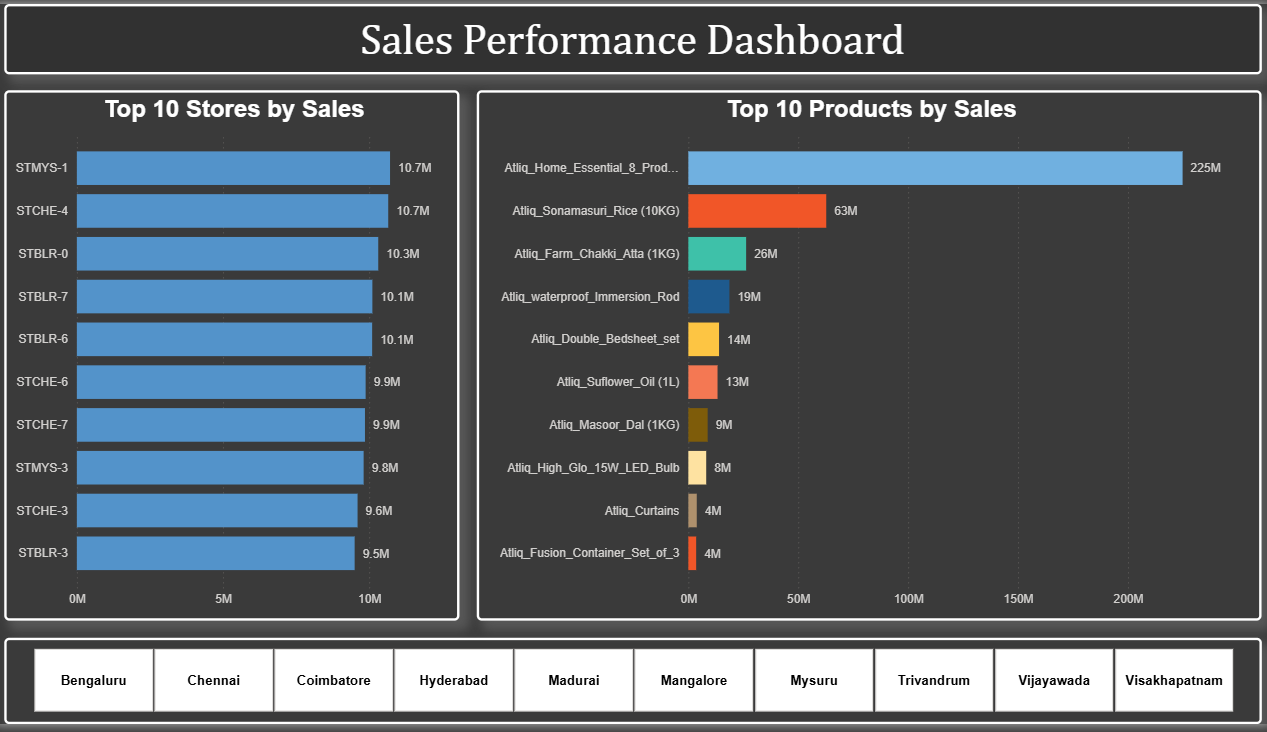

What the dashboard file says about the page in this screenshot:
{"tool":"powerbi","page":{"name":"Page 2","canvas":[1280,720],"ordinal":1},"visuals":[{"type":"textbox","box":[11.2,0,1257.5,70],"z":0},{"type":"barChart","title":"Top 10 Stores by Sales","fields":{"Category":["dim_stores.store_id"],"Y":["fact_events.TotalSales"]},"box":[11.2,86.2,455,530],"z":1000},{"type":"barChart","title":"Top 10 Products by Sales","fields":{"Category":["dim_products.product_name"],"Y":["Sum(fact_events.Total Sales)"]},"box":[483.8,86.2,785,530],"z":2000},{"type":"slicer","fields":{"Values":["dim_stores.city"]},"box":[11.2,633.8,1257.5,86.2],"z":3000}]}

Visuals, with their boxes in screenshot pixels (x1, y1, x2, y2), scaled from the page's 1280x720 canvas onto the 1267x732 screenshot:
textbox: {"x1": 11, "y1": 0, "x2": 1256, "y2": 71}
"Top 10 Stores by Sales" barChart: {"x1": 11, "y1": 88, "x2": 461, "y2": 626}
"Top 10 Products by Sales" barChart: {"x1": 479, "y1": 88, "x2": 1256, "y2": 626}
slicer - dim_stores.city: {"x1": 11, "y1": 644, "x2": 1256, "y2": 731}
